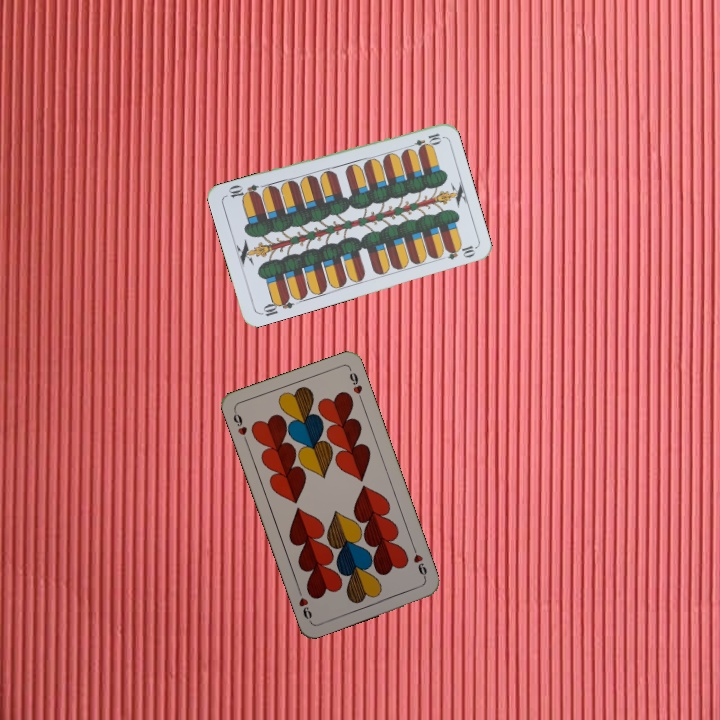E10: (256, 293, 296, 319), (404, 129, 444, 152)
H9: (229, 406, 250, 446), (409, 543, 430, 582)
